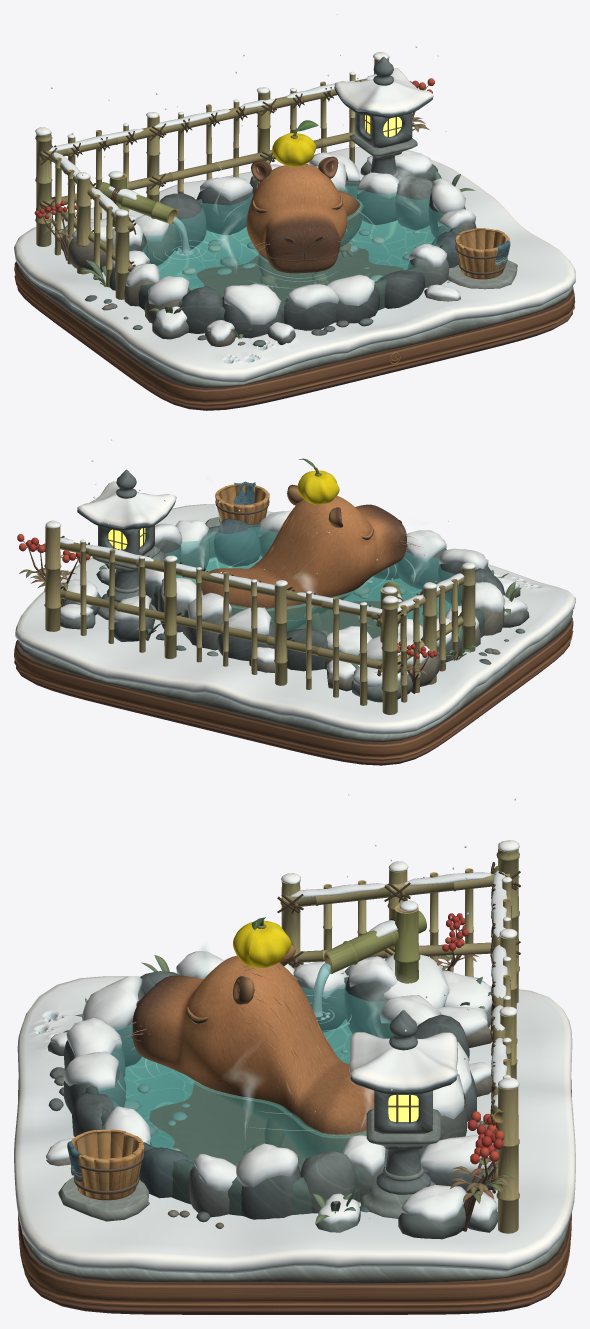
The picture shows the model from 3 angles, top to bottom: view 1: azimuth 30°, elevation 25°; view 2: azimuth 150°, elevation 25°; view 3: azimuth 270°, elevation 25°; orthographic projection. The views are drawn at different scales.
Visible parts, largest first — view 1: 03 · Cut bank and snowdrifts, 01 · Walnut presentation plinth, 05 · River stones at the waterline, 09 · Translucent spring water, 16 · Yotsume-gaki bamboo fence, 06 · Snow on the stone rim, 11 · Capybara | continuous head, shoulders and submerged bod, 04 · Mineral basin and submerged pebbles, 22 · Snow-laden stone roof and lotus finial, 08 · Snow on the garden rocks, 07 · Garden outcrops and river gravel, 17 · Snow gathered on bamboo (+12 smaller); view 2: 03 · Cut bank and snowdrifts, 16 · Yotsume-gaki bamboo fence, 01 · Walnut presentation plinth, 11 · Capybara | continuous head, shoulders and submerged bod, 05 · River stones at the waterline, 09 · Translucent spring water, 06 · Snow on the stone rim, 07 · Garden outcrops and river gravel, 08 · Snow on the garden rocks, 22 · Snow-laden stone roof and lotus finial, 17 · Snow gathered on bamboo, 20 · Granite tōrō | plinth, shaft and carved firebox (+7 smaller); view 3: 03 · Cut bank and snowdrifts, 11 · Capybara | continuous head, shoulders and submerged bod, 01 · Walnut presentation plinth, 05 · River stones at the waterline, 09 · Translucent spring water, 06 · Snow on the stone rim, 16 · Yotsume-gaki bamboo fence, 08 · Snow on the garden rocks, 22 · Snow-laden stone roof and lotus finial, 20 · Granite tōrō | plinth, shaft and carved firebox, 17 · Snow gathered on bamboo, 07 · Garden outcrops and river gravel (+13 smaller).
Part boxes in pixels (x1,y1,x2,y2): 03 · Cut bank and snowdrifts: [14, 147, 575, 387]; 01 · Walnut presentation plinth: [14, 248, 575, 410]; 05 · River stones at the waterline: [109, 172, 476, 338]; 09 · Translucent spring water: [141, 186, 450, 301]; 16 · Yotsume-gaki bamboo fence: [35, 57, 389, 299]; 06 · Snow on the stone rim: [112, 162, 475, 324]; 11 · Capybara | continuous head, shoulders and submerged bod: [246, 164, 362, 273]; 04 · Mineral basin and submerged pebbles: [156, 220, 434, 290]; 22 · Snow-laden stone roof and lotus finial: [334, 56, 433, 117]; 08 · Snow on the garden rocks: [65, 150, 460, 341]; 07 · Garden outcrops and river gravel: [61, 161, 460, 347]; 17 · Snow gathered on bamboo: [35, 52, 389, 216]; 03 · Cut bank and snowdrifts: [15, 504, 575, 742]; 16 · Yotsume-gaki bamboo fence: [44, 525, 475, 714]; 01 · Walnut presentation plinth: [14, 601, 573, 765]; 11 · Capybara | continuous head, shoulders and submerged bod: [196, 496, 406, 631]; 05 · River stones at the waterline: [137, 518, 504, 671]; 09 · Translucent spring water: [165, 527, 461, 638]; 06 · Snow on the stone rim: [145, 510, 504, 655]; 07 · Garden outcrops and river gravel: [60, 571, 529, 702]; 08 · Snow on the garden rocks: [60, 565, 527, 686]; 22 · Snow-laden stone roof and lotus finial: [77, 469, 176, 530]; 17 · Snow gathered on bamboo: [45, 520, 475, 614]; 20 · Granite tōrō | plinth, shaft and carved firebox: [92, 525, 160, 619]; 03 · Cut bank and snowdrifts: [14, 975, 575, 1283]; 11 · Capybara | continuous head, shoulders and submerged bod: [132, 955, 374, 1158]; 01 · Walnut presentation plinth: [18, 1080, 571, 1314]; 05 · River stones at the waterline: [63, 971, 476, 1219]; 09 · Translucent spring water: [97, 984, 393, 1171]; 06 · Snow on the stone rim: [63, 951, 471, 1190]; 16 · Yotsume-gaki bamboo fence: [280, 847, 519, 1233]; 08 · Snow on the garden rocks: [46, 954, 497, 1224]; 22 · Snow-laden stone roof and lotus finial: [349, 1010, 457, 1094]; 20 · Granite tōrō | plinth, shaft and carved firebox: [360, 1091, 440, 1218]; 17 · Snow gathered on bamboo: [281, 840, 519, 1107]; 07 · Garden outcrops and river gravel: [46, 1000, 497, 1239].
Bounding box in the file's own units: 1.88 × 0.8667 × 1.58.
Materials: 24 (9 with a texture image).
